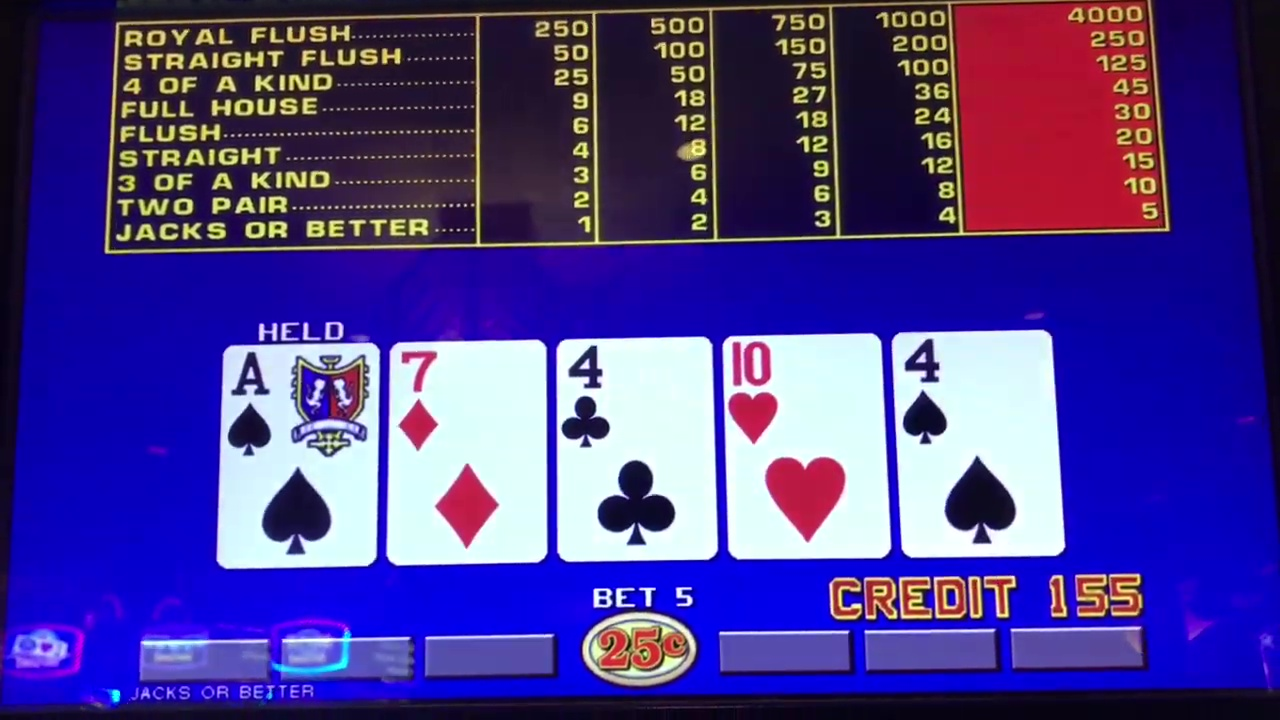C4: (558, 337, 715, 447)
D7: (395, 344, 542, 451)
HT: (730, 338, 888, 447)
S4: (902, 335, 1057, 446)
SA: (226, 343, 373, 454)
